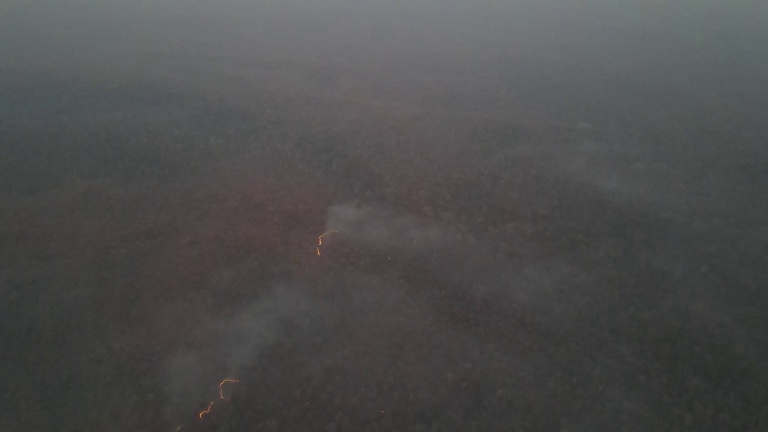fire: (171, 375, 240, 432), (307, 224, 342, 258)
smoke: (168, 290, 289, 391), (314, 200, 405, 246)
